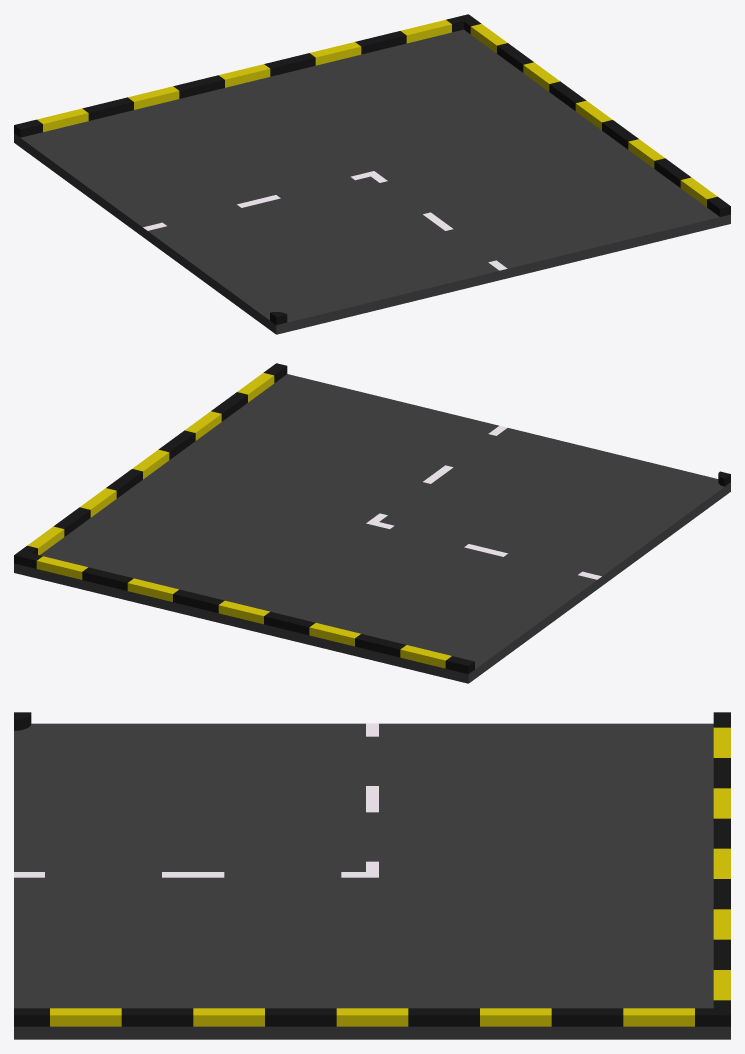
File: single_road_corner.glb
3 renders of one model, top to bottom at view 1: azimuth 30°, elevation 25°; view 2: azimuth 150°, elevation 25°; view 3: azimuth 270°, elevation 25°, orthographic. The views are drawn at different scales.
Visible parts, largest first — view 1: Cube.007, Sidewalk.011, Sidewalk.009; view 2: Cube.007, Sidewalk.011, Sidewalk.009; view 3: Cube.007, Sidewalk.009, Sidewalk.011, Cube.008, Cube.009.
Boxes of the visible parts, x1,y1,x2,y2 form: Cube.007: (14,29,730,334); Sidewalk.011: (14,14,473,137); Sidewalk.009: (458,14,730,216); Cube.007: (14,374,730,683); Sidewalk.011: (14,551,474,674); Sidewalk.009: (14,363,287,565); Cube.007: (14,723,730,1039); Sidewalk.009: (14,1008,730,1026); Sidewalk.011: (713,712,730,1015); Cube.008: (14,872,378,877); Cube.009: (366,723,378,877).
Bounding box in the file's own units: 2 × 0.0741 × 2.
